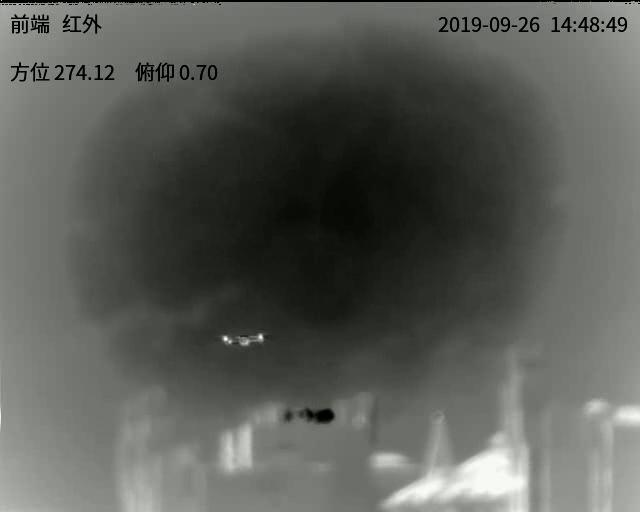DRONE: (218, 331, 266, 348)
